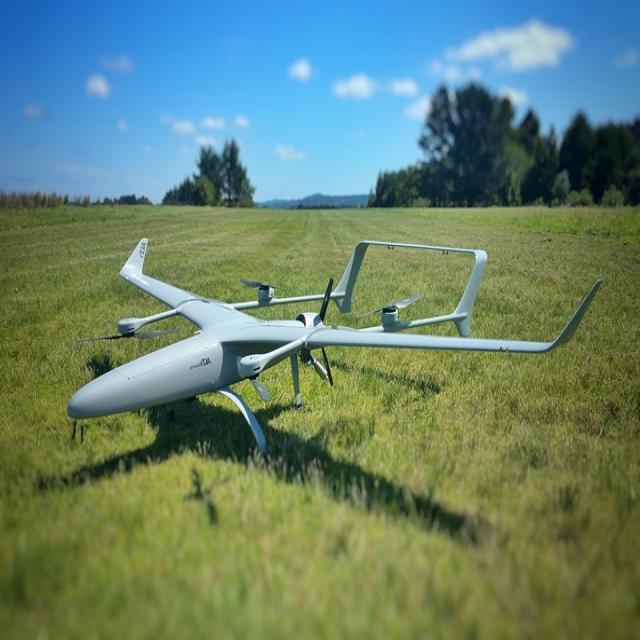iha: (60, 225, 610, 485)
